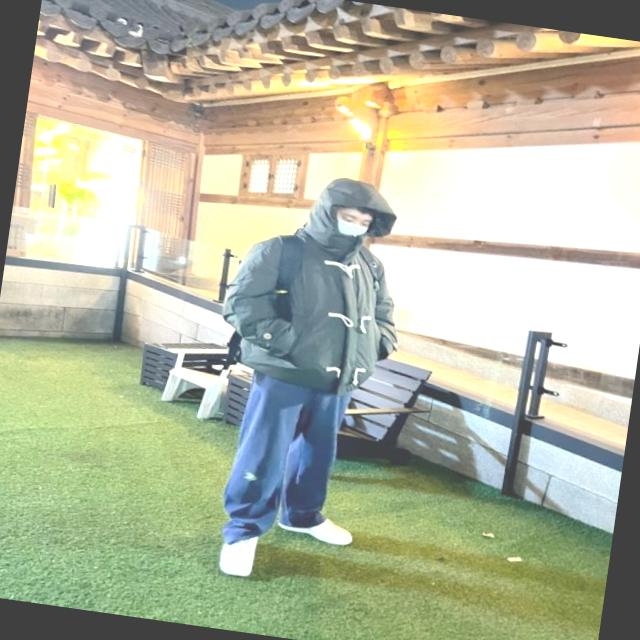padding: (213, 161, 422, 402)
trainingpants: (220, 368, 348, 556)
